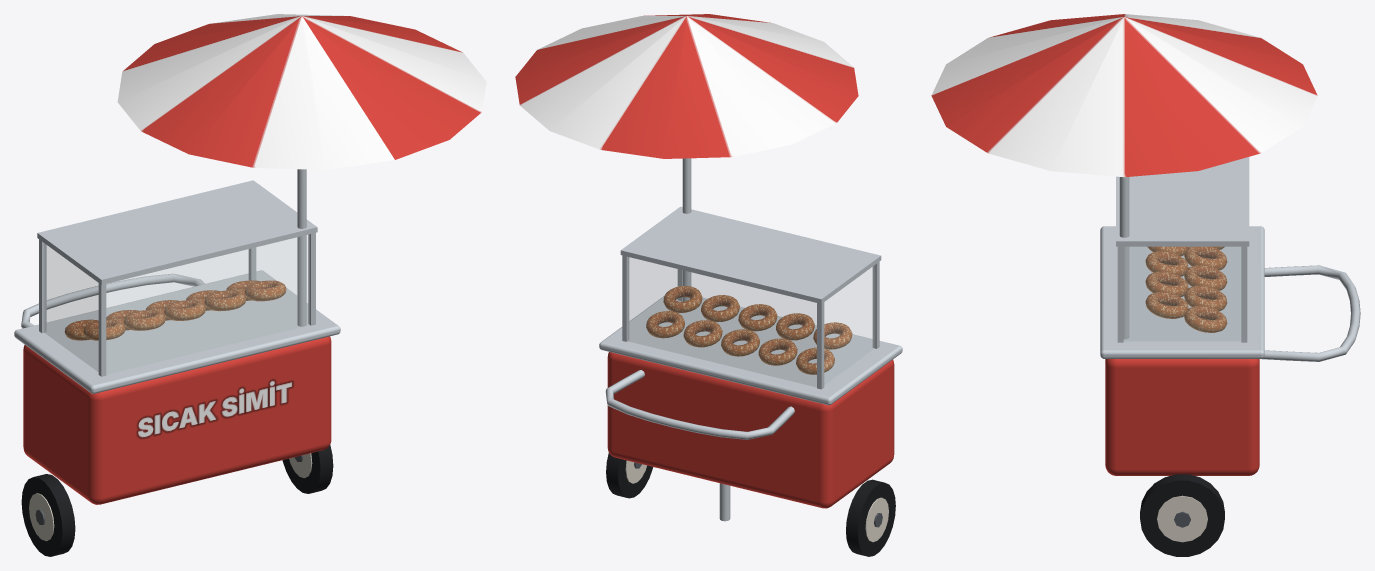
The model's file is seyyar.glb.
3 views of the same model, side by side, from view 1: azimuth 30°, elevation 25°; view 2: azimuth 150°, elevation 25°; view 3: azimuth 270°, elevation 25° (orthographic). The views are drawn at different scales.
Visible parts, largest first — view 1: seyyar-simit, teker (×2); view 2: seyyar-simit, teker (×2); view 3: seyyar-simit, teker.
Part boxes in pixels (left/top/right/bottom): seyyar-simit: left=14, top=14, right=486, bottom=504; teker (×2): left=21, top=445, right=333, bottom=556; seyyar-simit: left=515, top=14, right=902, bottom=521; teker (×2): left=606, top=452, right=895, bottom=556; seyyar-simit: left=931, top=14, right=1360, bottom=475; teker: left=1140, top=474, right=1224, bottom=556.
Size of the model in its own units: 2.46 by 2.97 by 2.22.
9 materials, 3 textured.
